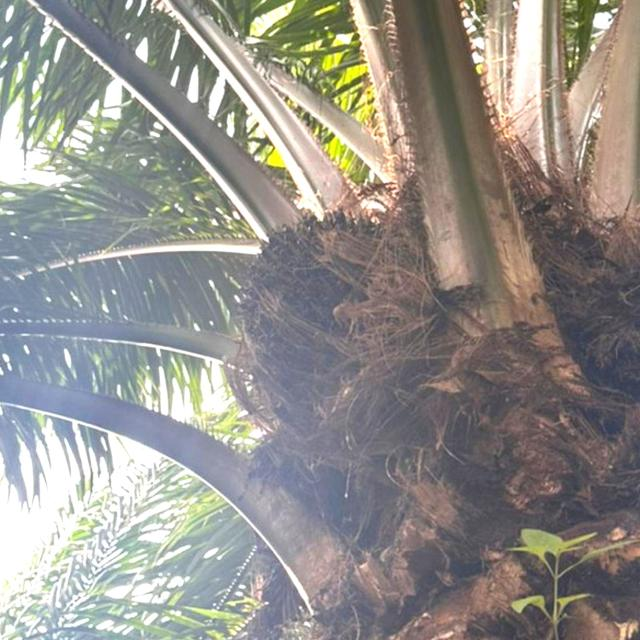almost: (233, 195, 419, 447)
